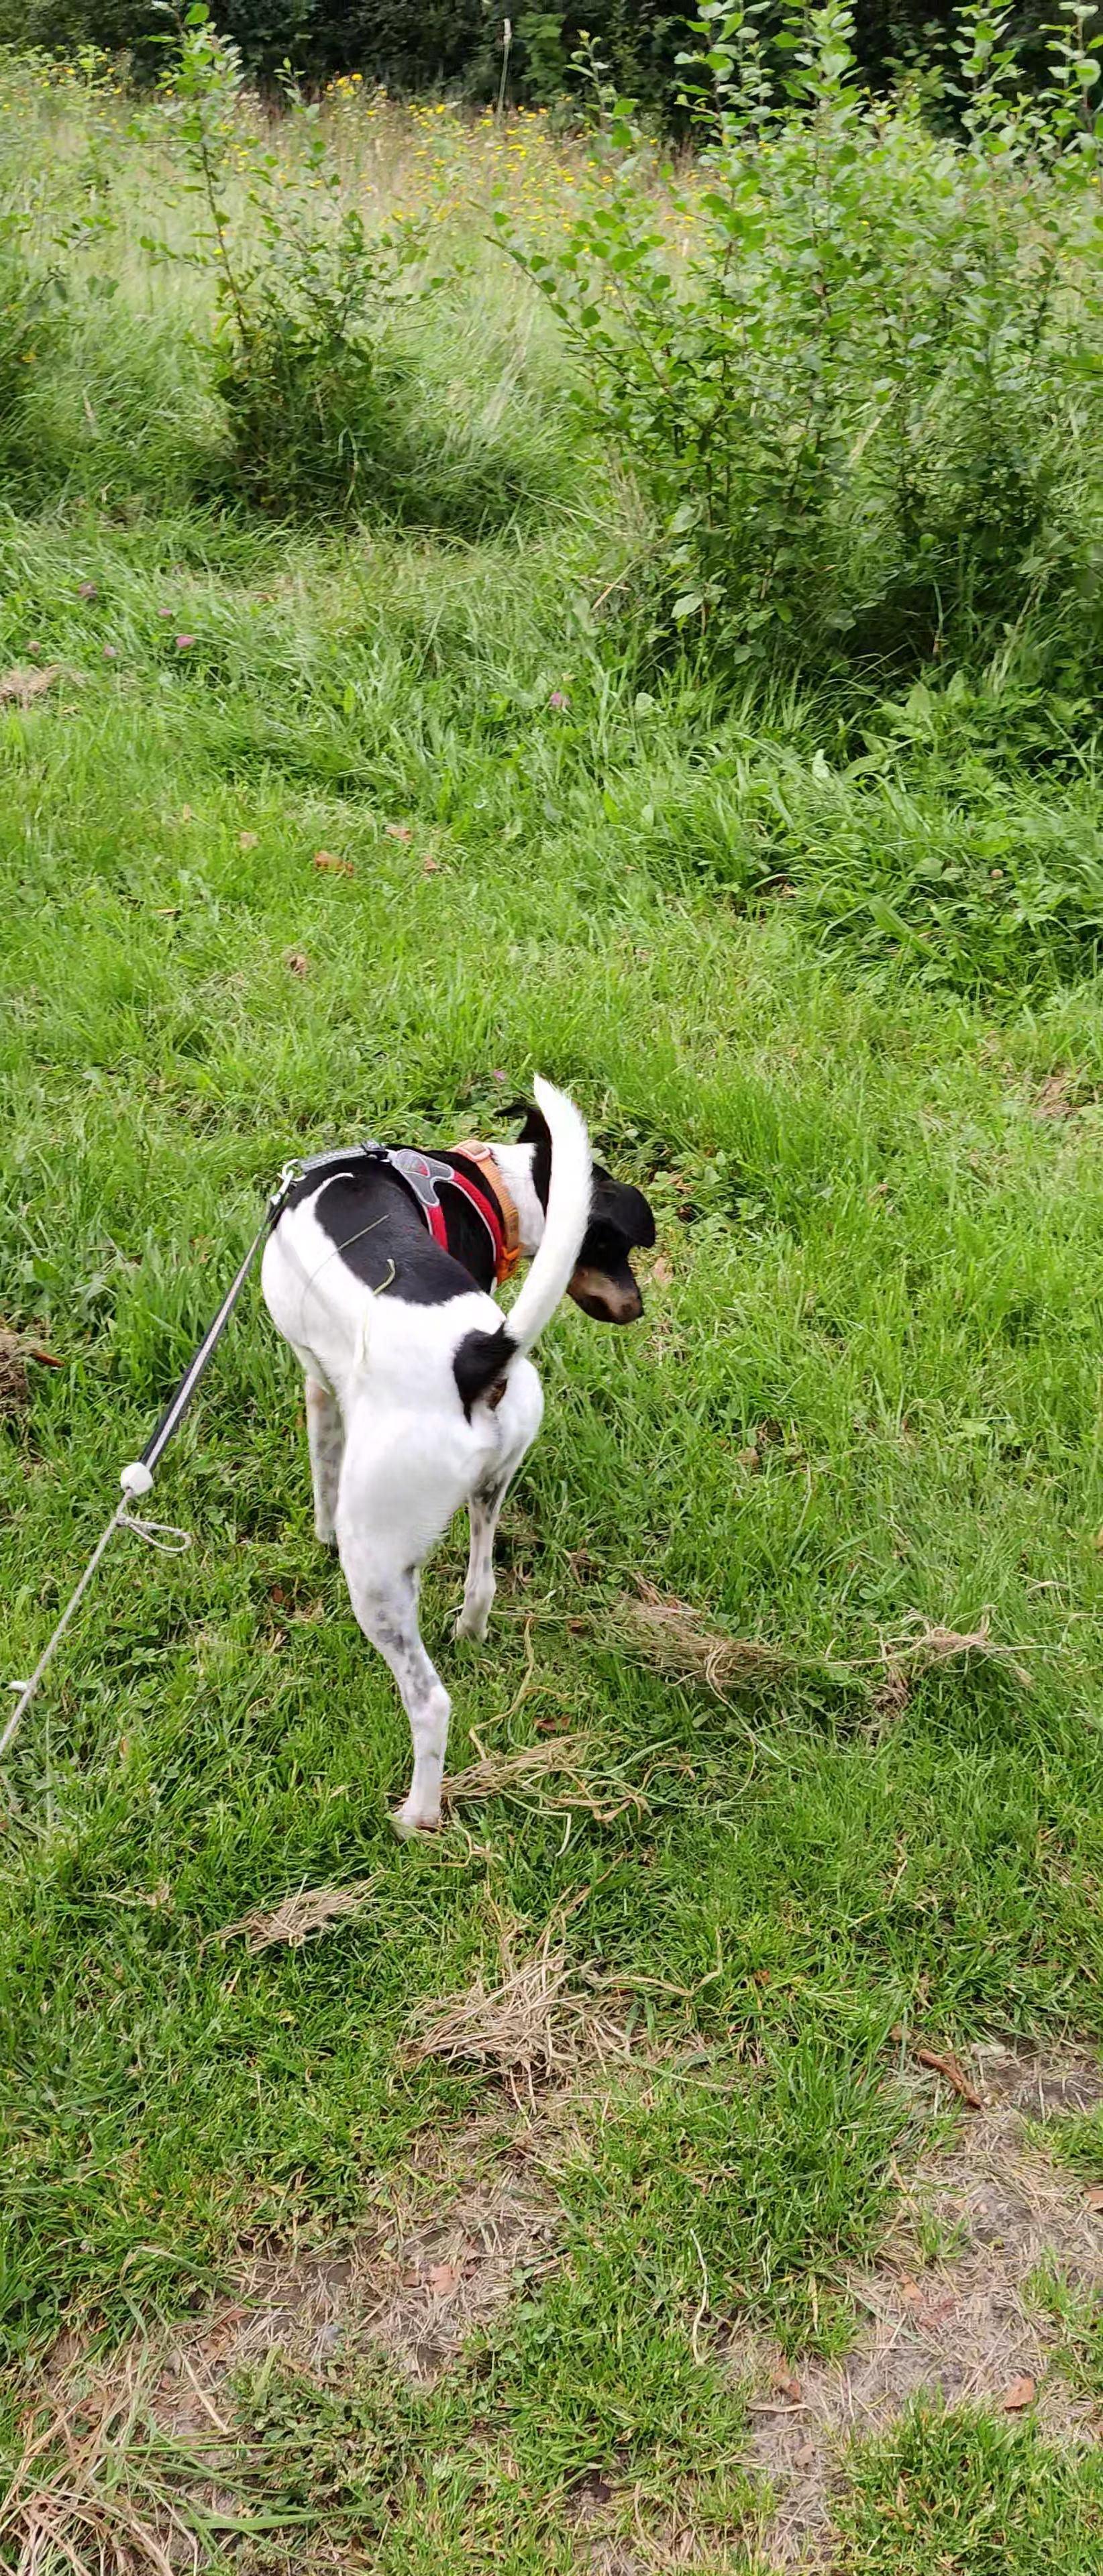Dog: (248, 1066, 667, 1830)
